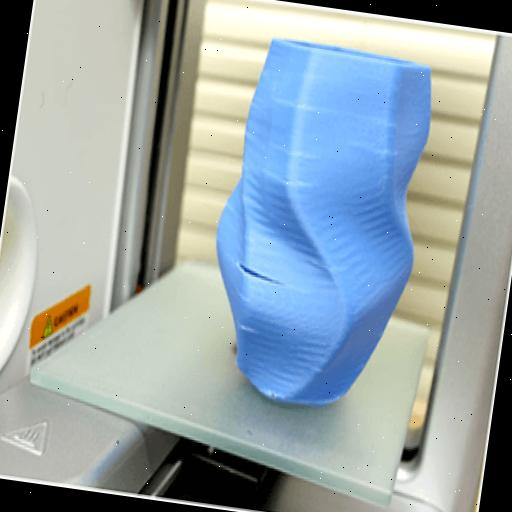cracks: (230, 252, 304, 310)
